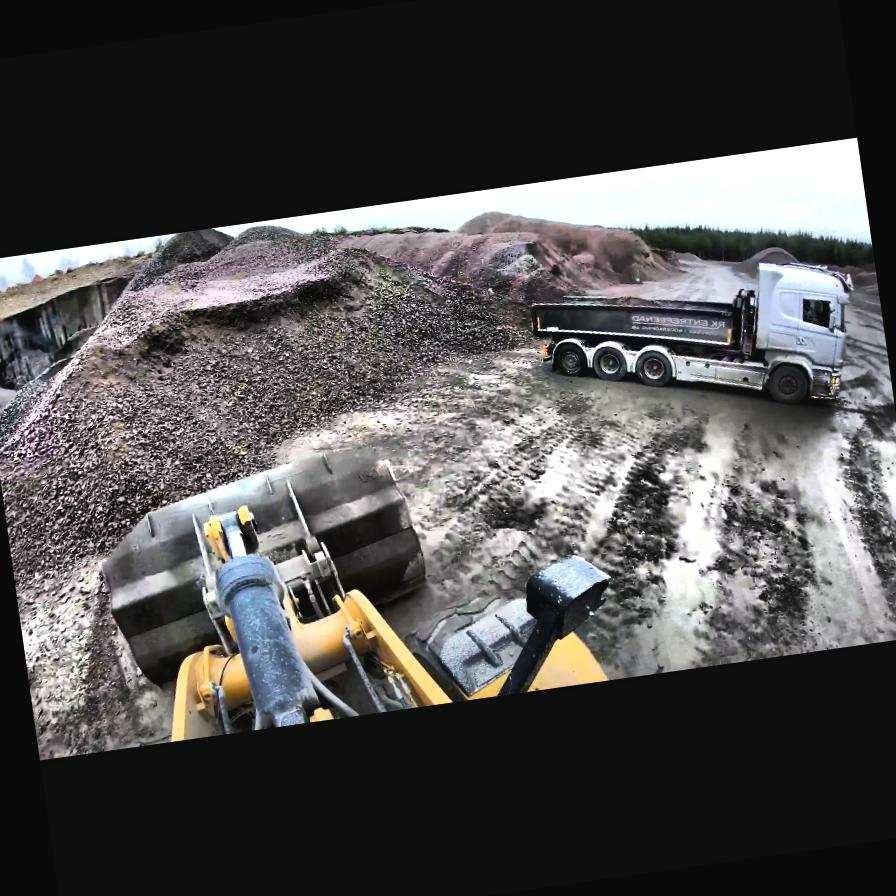anchor: (202, 503, 262, 566)
pile of gravel: (0, 194, 494, 576), (458, 185, 680, 313), (726, 242, 798, 278)
